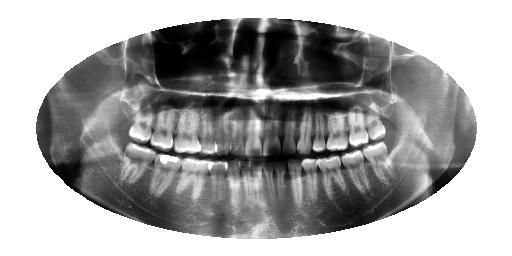i10decay: (242, 160, 253, 204)
i11decay: (229, 159, 242, 203)
i12healthy: (208, 160, 228, 204)
i13healthy: (181, 157, 208, 203)
i14healthy: (153, 152, 181, 198)
i15healthy: (124, 142, 153, 188)
i16loss: (106, 142, 126, 175)
i1loss: (388, 142, 411, 169)
i2healthy: (364, 140, 391, 186)
i3healthy: (345, 148, 366, 200)
i4healthy: (319, 153, 344, 205)
i5healthy: (303, 155, 319, 208)
i6decay: (289, 160, 303, 208)
i7decay: (276, 160, 288, 210)
i8decay: (265, 160, 275, 207)
i9decay: (253, 161, 264, 205)
u10decay: (230, 113, 246, 155)
u11healthy: (218, 113, 231, 156)
u12healthy: (201, 113, 217, 155)
u13healthy: (174, 108, 202, 154)
u14healthy: (154, 104, 177, 148)
u15healthy: (128, 105, 155, 142)
u16loss: (108, 105, 130, 138)
u1loss: (381, 106, 404, 136)
u2healthy: (366, 105, 384, 140)
u3healthy: (350, 104, 368, 148)
u4healthy: (326, 107, 349, 152)
u5healthy: (312, 111, 328, 153)
u6chipped: (296, 113, 313, 156)
u7decay: (282, 114, 296, 156)
u8decay: (263, 115, 284, 156)
u9decay: (244, 115, 263, 157)
